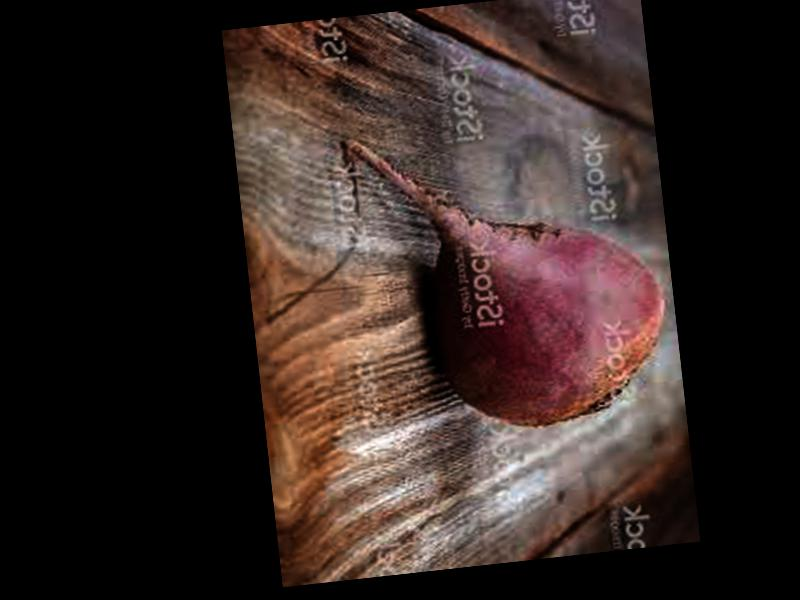Beet: (343, 104, 676, 443)
